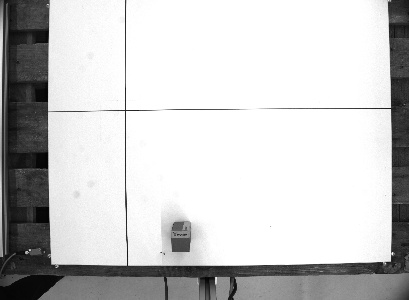b3: (168, 219, 193, 254)
